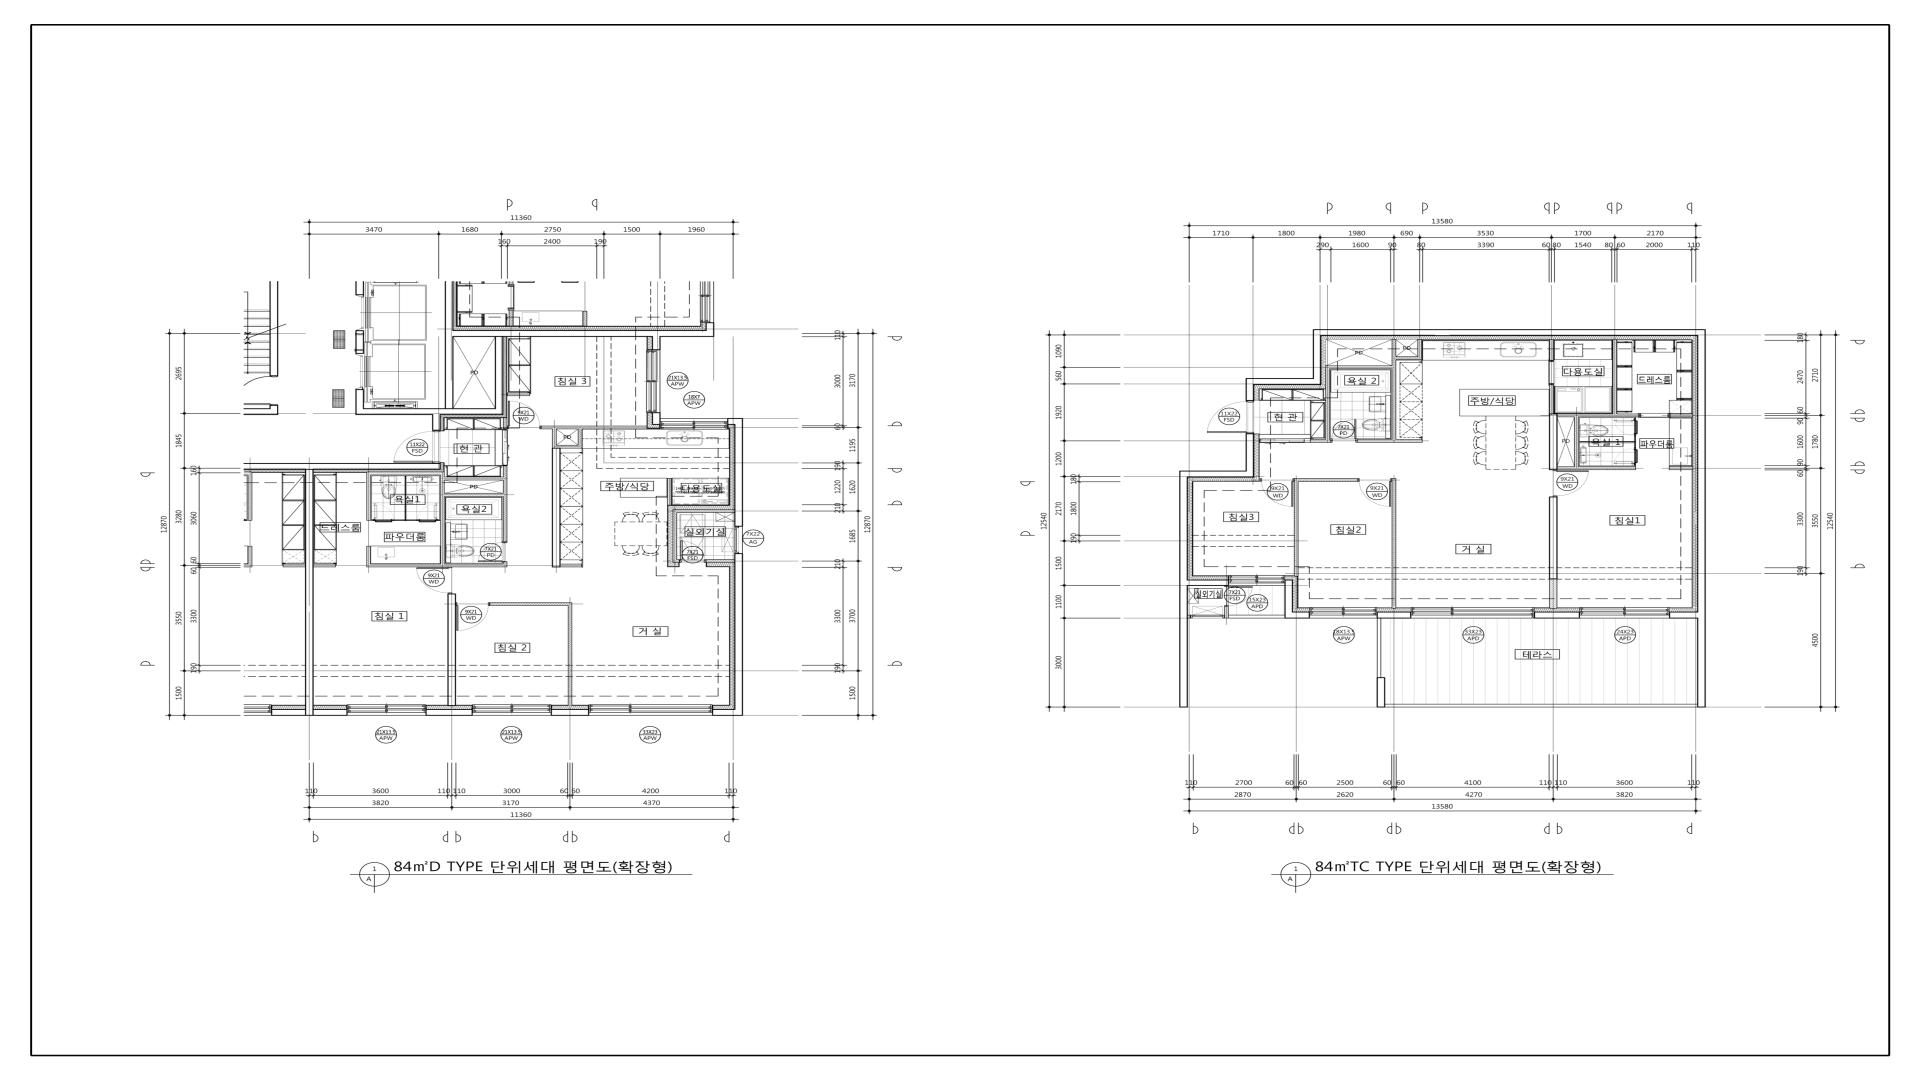door: (393, 431, 435, 463), (1207, 401, 1249, 433), (417, 567, 452, 593), (243, 376, 274, 405), (508, 401, 541, 429), (1553, 471, 1589, 496), (456, 604, 489, 630), (1261, 480, 1292, 506), (1360, 480, 1391, 506), (680, 541, 705, 562), (1332, 419, 1357, 440), (479, 542, 505, 562), (1226, 587, 1253, 605), (417, 502, 436, 522), (373, 502, 393, 522), (1614, 419, 1638, 435), (1614, 448, 1638, 464), (1259, 439, 1311, 443), (502, 430, 508, 465), (1639, 413, 1669, 418), (1548, 361, 1555, 385)
wall: (1245, 330, 1706, 618), (433, 330, 715, 431), (1179, 433, 1254, 618), (713, 554, 744, 716), (305, 469, 314, 716), (356, 389, 433, 415), (728, 418, 744, 527), (243, 463, 440, 469), (444, 281, 454, 409), (551, 448, 560, 568), (447, 593, 456, 705), (1284, 580, 1309, 618), (1548, 496, 1557, 579), (270, 281, 278, 376), (367, 562, 508, 567), (1391, 479, 1396, 609), (567, 605, 572, 705), (1391, 339, 1396, 439), (1548, 414, 1557, 471), (501, 465, 508, 542), (1294, 481, 1299, 576), (541, 426, 647, 430), (673, 513, 680, 563), (1613, 339, 1618, 414), (1325, 369, 1331, 439), (440, 472, 444, 564), (244, 405, 278, 415), (489, 603, 572, 607), (1557, 467, 1636, 471), (1534, 612, 1580, 618), (426, 709, 472, 716), (1357, 439, 1423, 443), (1325, 365, 1391, 369), (673, 509, 735, 513), (551, 709, 588, 716), (1549, 579, 1557, 609), (444, 493, 502, 497), (444, 476, 502, 480), (1377, 612, 1411, 618), (314, 709, 347, 716), (1557, 414, 1639, 417), (1575, 417, 1578, 467), (365, 472, 439, 475), (356, 330, 364, 353), (367, 475, 371, 521), (1294, 479, 1360, 481), (1548, 385, 1553, 414), (667, 477, 673, 505), (1578, 440, 1634, 443), (355, 281, 364, 295), (705, 559, 735, 563), (651, 413, 661, 425), (578, 429, 583, 448), (1396, 356, 1422, 360), (1549, 339, 1553, 361), (560, 563, 582, 567), (553, 429, 556, 448), (1311, 439, 1331, 443), (367, 546, 371, 564), (1224, 605, 1229, 618), (1418, 339, 1422, 356), (1668, 467, 1693, 469), (502, 418, 508, 430), (1669, 414, 1693, 417), (508, 393, 530, 396), (556, 446, 579, 448), (405, 475, 406, 520), (314, 564, 336, 567), (1634, 435, 1636, 448), (393, 520, 417, 521), (1188, 615, 1191, 618)
window: (588, 704, 713, 716), (1411, 607, 1534, 618), (1580, 607, 1669, 618), (347, 704, 426, 716), (472, 704, 551, 716), (646, 351, 661, 413), (661, 418, 728, 430), (1309, 607, 1377, 618), (1228, 575, 1284, 587), (735, 527, 742, 554), (1191, 615, 1225, 618)
